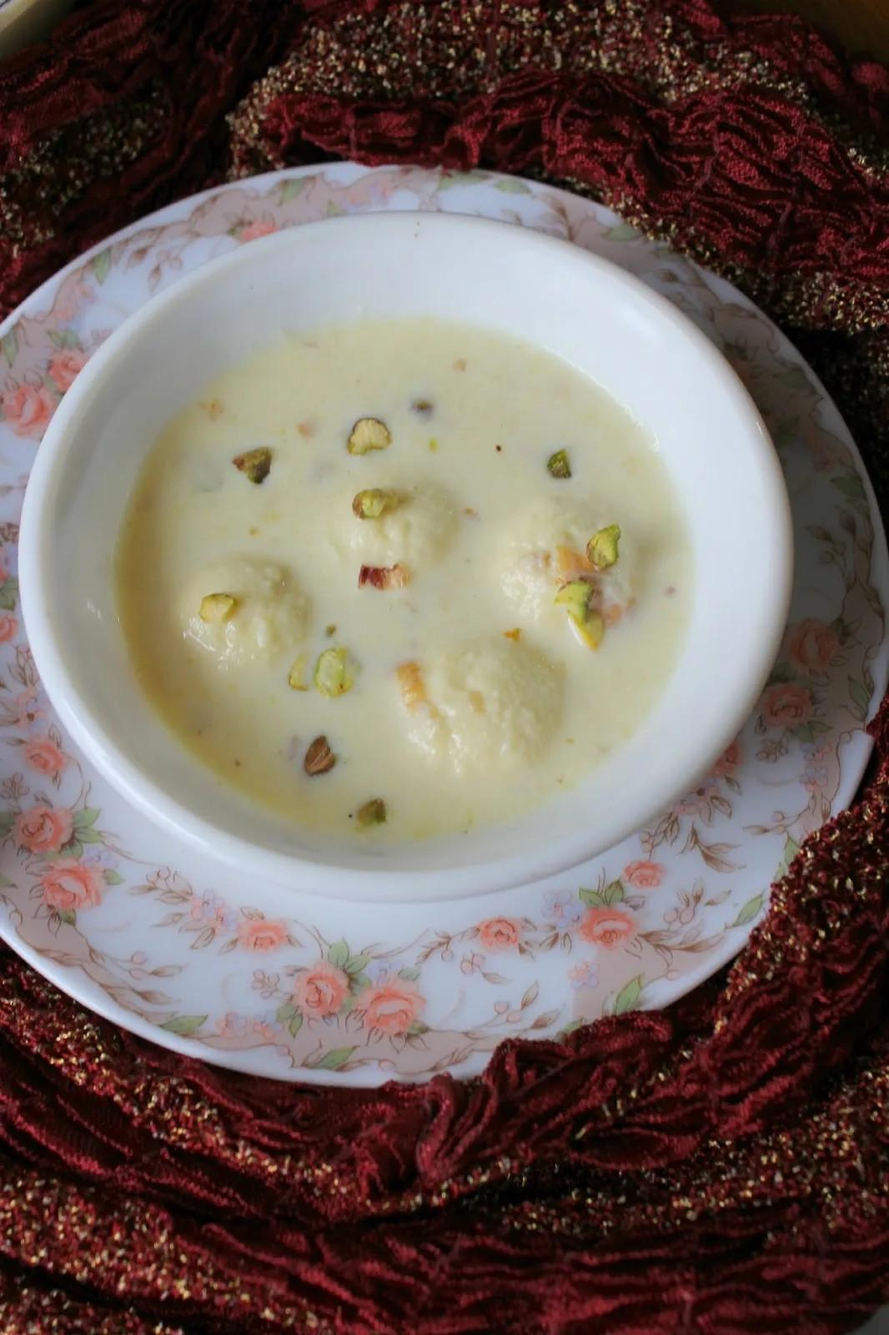RasMalai: (117, 318, 700, 848)
